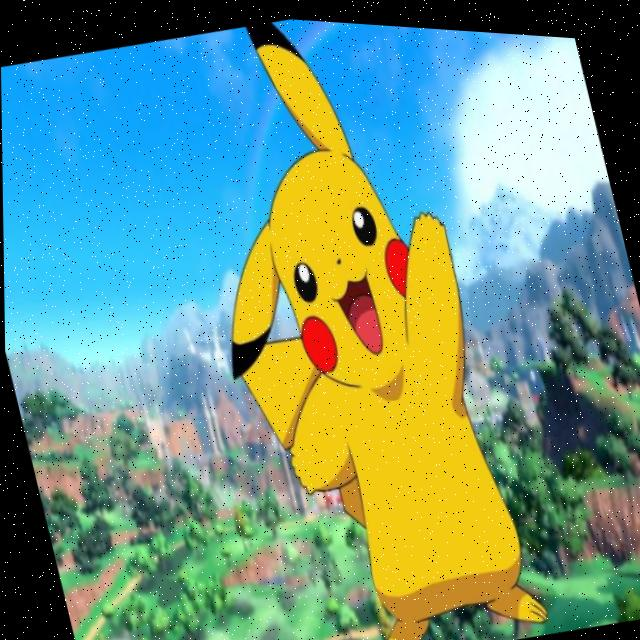Pikachu: (97, 5, 607, 640)
